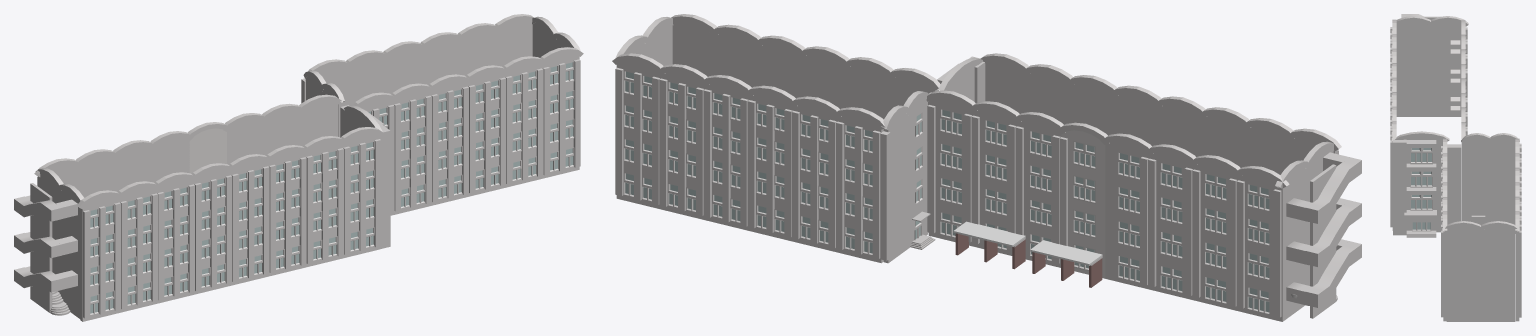
Rendered from 인권과 정의잉.fbx.
3 renders of one model, left to right at view 1: azimuth 30°, elevation 25°; view 2: azimuth 150°, elevation 25°; view 3: azimuth 270°, elevation 25°, orthographic. The views are drawn at different scales.
Visible parts, largest first — view 1: TEMPORARY_IMPORT_NAMESPACE_인___pCube57polySurface387Sha5, TEMPORARY_IMPORT_NAMESPACE_인___pCube57polySurface387Sha2, TEMPORARY_IMPORT_NAMESPACE_인___pCube57polySurface387Sha1, TEMPORARY_IMPORT_NAMESPACE_인___pCube40Sha, TEMPORARY_IMPORT_NAMESPACE_인___pCube41Sha, polySurface670, polySurface860, polySurface826, polySurface966, polySurface974, polySurface778, polySurface947 (+9 smaller); view 2: TEMPORARY_IMPORT_NAMESPACE_인___pCube57polySurface387Sha1, TEMPORARY_IMPORT_NAMESPACE_인___pCube57polySurface387Sha5, TEMPORARY_IMPORT_NAMESPACE_인___pCube57polySurface387Sha2, transform371, polySurface974, polySurface778, polySurface1029, polySurface947, polySurface966, polySurface860, polySurface670, TEMPORARY_IMPORT_NAMESPACE_인___pCube39Sha (+25 smaller); view 3: transform371, TEMPORARY_IMPORT_NAMESPACE_인___pCube26Sha, TEMPORARY_IMPORT_NAMESPACE_인___pCube27Sha, TEMPORARY_IMPORT_NAMESPACE_인___pCube40Sha, TEMPORARY_IMPORT_NAMESPACE_인___pCube39Sha, TEMPORARY_IMPORT_NAMESPACE_인___pCube28Sha, TEMPORARY_IMPORT_NAMESPACE_인___pCube36Sha, TEMPORARY_IMPORT_NAMESPACE_인___pCube57polySurface387Sha1, TEMPORARY_IMPORT_NAMESPACE_인___pCube33Sha, TEMPORARY_IMPORT_NAMESPACE_인___pCube57polySurface387Sha2, TEMPORARY_IMPORT_NAMESPACE_인___pCube57polySurface387Sha5, TEMPORARY_IMPORT_NAMESPACE_인___polySurface14polySurface43Sha (+14 smaller).
Part boxes in pixels (box(x1,y1,x2,y2)): TEMPORARY_IMPORT_NAMESPACE_인___pCube57polySurface387Sha5: box(76, 127, 383, 321); TEMPORARY_IMPORT_NAMESPACE_인___pCube57polySurface387Sha2: box(353, 47, 583, 215); TEMPORARY_IMPORT_NAMESPACE_인___pCube57polySurface387Sha1: box(308, 14, 533, 106); TEMPORARY_IMPORT_NAMESPACE_인___pCube40Sha: box(57, 183, 83, 318); TEMPORARY_IMPORT_NAMESPACE_인___pCube41Sha: box(30, 183, 52, 312); polySurface670: box(227, 119, 264, 164); polySurface860: box(301, 101, 338, 146); polySurface826: box(264, 110, 301, 155); polySurface966: box(115, 146, 152, 191); polySurface974: box(152, 137, 189, 182); polySurface778: box(189, 128, 226, 173); polySurface947: box(78, 155, 115, 197); TEMPORARY_IMPORT_NAMESPACE_인___pCube57polySurface387Sha1: box(612, 53, 884, 263); TEMPORARY_IMPORT_NAMESPACE_인___pCube57polySurface387Sha5: box(980, 53, 1341, 174); TEMPORARY_IMPORT_NAMESPACE_인___pCube57polySurface387Sha2: box(671, 14, 940, 119); transform371: box(881, 91, 928, 263); polySurface974: box(1105, 141, 1149, 289); polySurface778: box(1061, 130, 1105, 278); polySurface1029: box(1238, 173, 1282, 321); polySurface947: box(1193, 162, 1237, 310); polySurface966: box(1149, 152, 1193, 300); polySurface860: box(928, 98, 972, 246); polySurface670: box(1017, 119, 1061, 267); TEMPORARY_IMPORT_NAMESPACE_인___pCube39Sha: box(1275, 160, 1310, 321); transform371: box(1461, 133, 1519, 233); TEMPORARY_IMPORT_NAMESPACE_인___pCube26Sha: box(1444, 221, 1484, 321); TEMPORARY_IMPORT_NAMESPACE_인___pCube27Sha: box(1478, 221, 1517, 321); TEMPORARY_IMPORT_NAMESPACE_인___pCube40Sha: box(1396, 16, 1433, 116); TEMPORARY_IMPORT_NAMESPACE_인___pCube39Sha: box(1428, 16, 1468, 116); TEMPORARY_IMPORT_NAMESPACE_인___pCube28Sha: box(1395, 131, 1449, 232); TEMPORARY_IMPORT_NAMESPACE_인___pCube36Sha: box(1393, 139, 1406, 235); TEMPORARY_IMPORT_NAMESPACE_인___pCube57polySurface387Sha1: box(1515, 138, 1521, 321); TEMPORARY_IMPORT_NAMESPACE_인___pCube33Sha: box(1447, 144, 1461, 224); TEMPORARY_IMPORT_NAMESPACE_인___pCube57polySurface387Sha2: box(1441, 138, 1447, 321); TEMPORARY_IMPORT_NAMESPACE_인___pCube57polySurface387Sha5: box(1390, 19, 1396, 230); TEMPORARY_IMPORT_NAMESPACE_인___polySurface14polySurface43Sha: box(1404, 210, 1436, 220).
Size of what is drawn, in the model's own units: 259 by 55.54 by 66.14.
